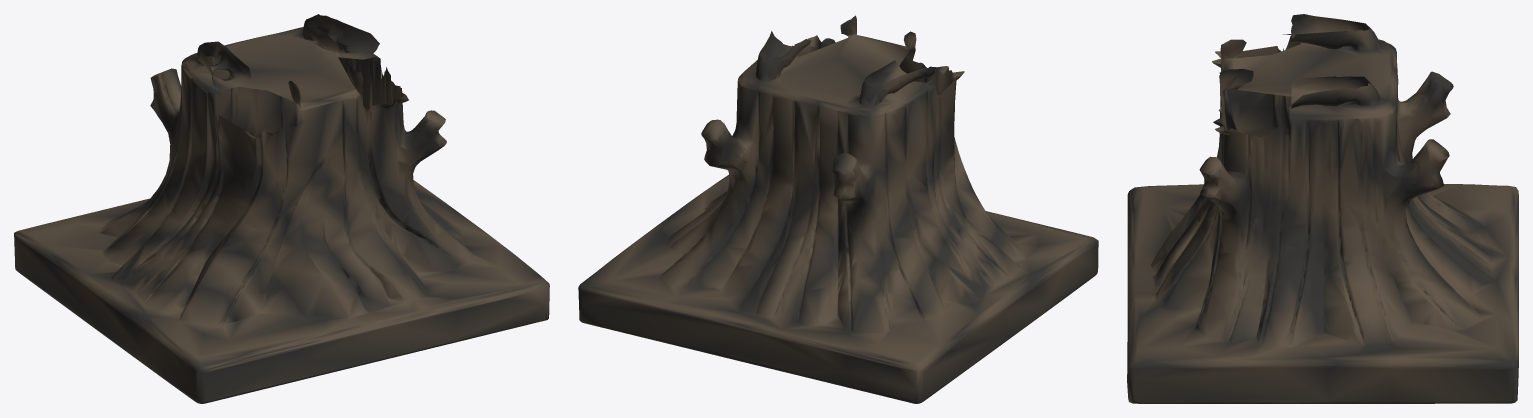
Rendered from hero-stump.glb.
The picture shows the model from 3 angles, left to right: view 1: azimuth 30°, elevation 25°; view 2: azimuth 150°, elevation 25°; view 3: azimuth 270°, elevation 25°; orthographic projection. The views are drawn at different scales.
Parts seen in each view (by area): view 1: TreeStump; view 2: TreeStump; view 3: TreeStump.
Part boxes in pixels (<box>): TreeStump: <box>14,14,549,403</box>; TreeStump: <box>578,15,1098,403</box>; TreeStump: <box>1127,14,1518,403</box>.
Bounding box in the file's own units: 1.37 × 0.9246 × 1.26.
